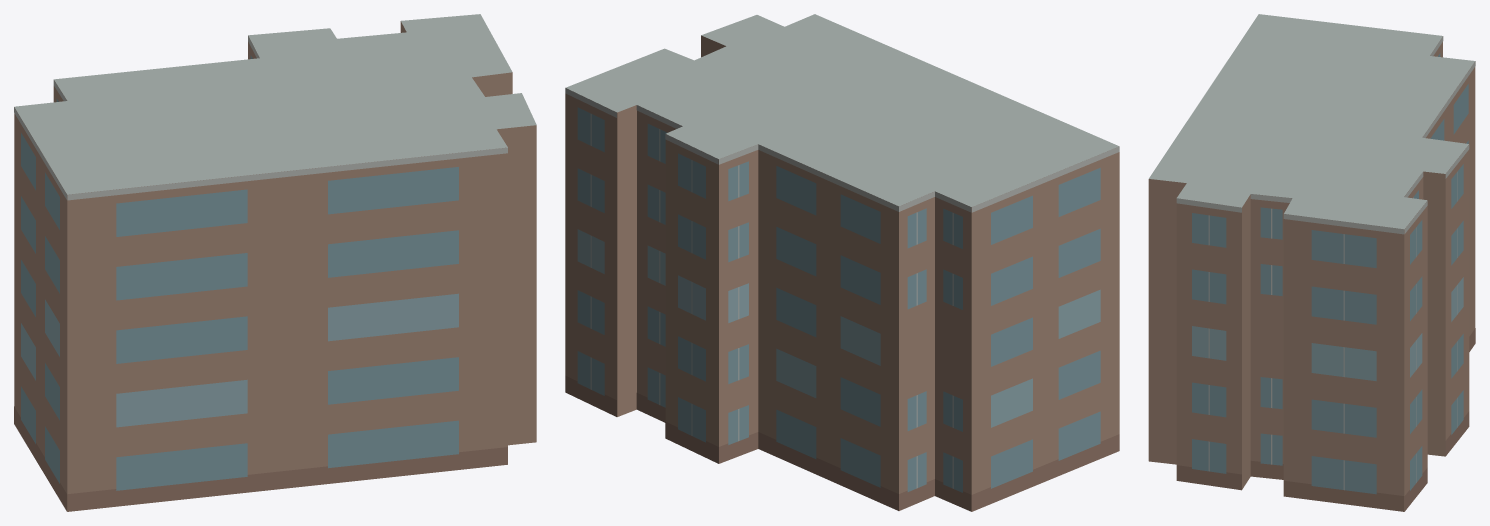
Rendered from survey-upis-32869182.glb.
3 renders of one model, left to right at view 1: azimuth 30°, elevation 25°; view 2: azimuth 150°, elevation 25°; view 3: azimuth 270°, elevation 25°, orthographic. The views are drawn at different scales.
Parts seen in each view (by area): view 1: survey-upis-32869182.tmp; view 2: survey-upis-32869182.tmp; view 3: survey-upis-32869182.tmp.
Boxes of the visible parts, x1=… form: survey-upis-32869182.tmp: x1=14, y1=14, x2=536, y2=511; survey-upis-32869182.tmp: x1=565, y1=14, x2=1119, y2=511; survey-upis-32869182.tmp: x1=1148, y1=14, x2=1475, y2=511.
Size of the model in its own units: 21.73 by 13.3 by 13.95.
